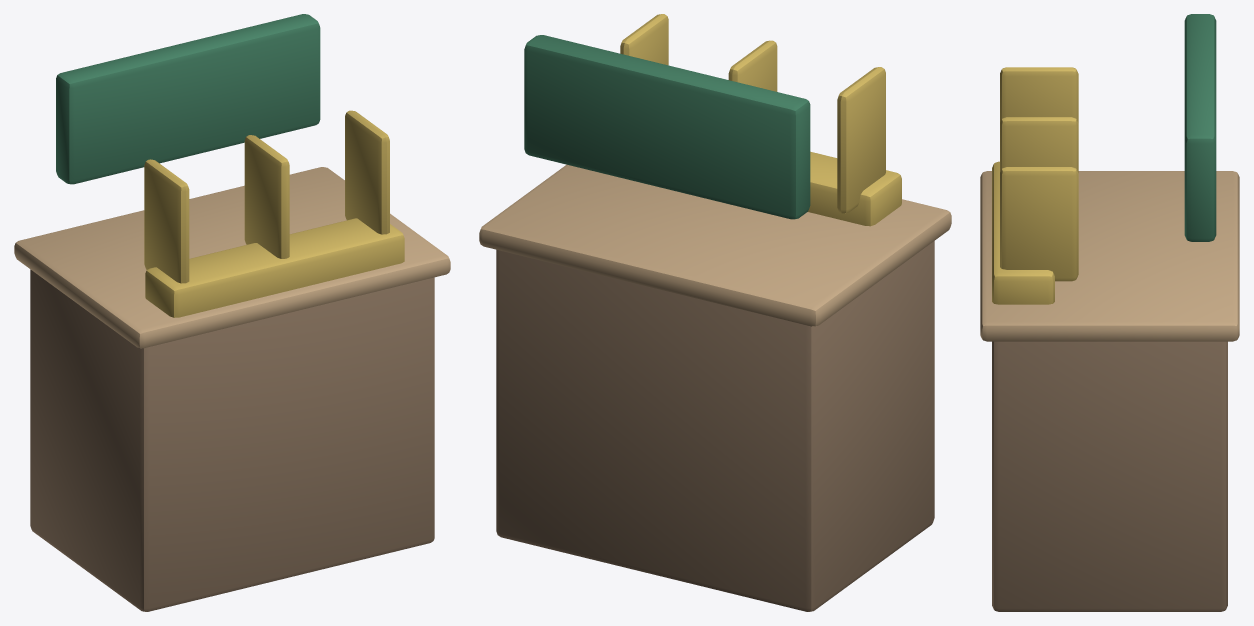
Rendered from service_station.glb.
The picture shows the model from 3 angles, left to right: view 1: azimuth 30°, elevation 25°; view 2: azimuth 150°, elevation 25°; view 3: azimuth 270°, elevation 25°; orthographic projection. The views are drawn at different scales.
Visible parts, largest first — view 1: service_station; view 2: service_station; view 3: service_station.
Boxes of the visible parts, box(x1,y1,x2,y2) form: service_station: box(14, 14, 450, 611); service_station: box(479, 14, 951, 611); service_station: box(980, 14, 1239, 611).
Size of the model in its own units: 0.94 by 1.31 by 0.66.
